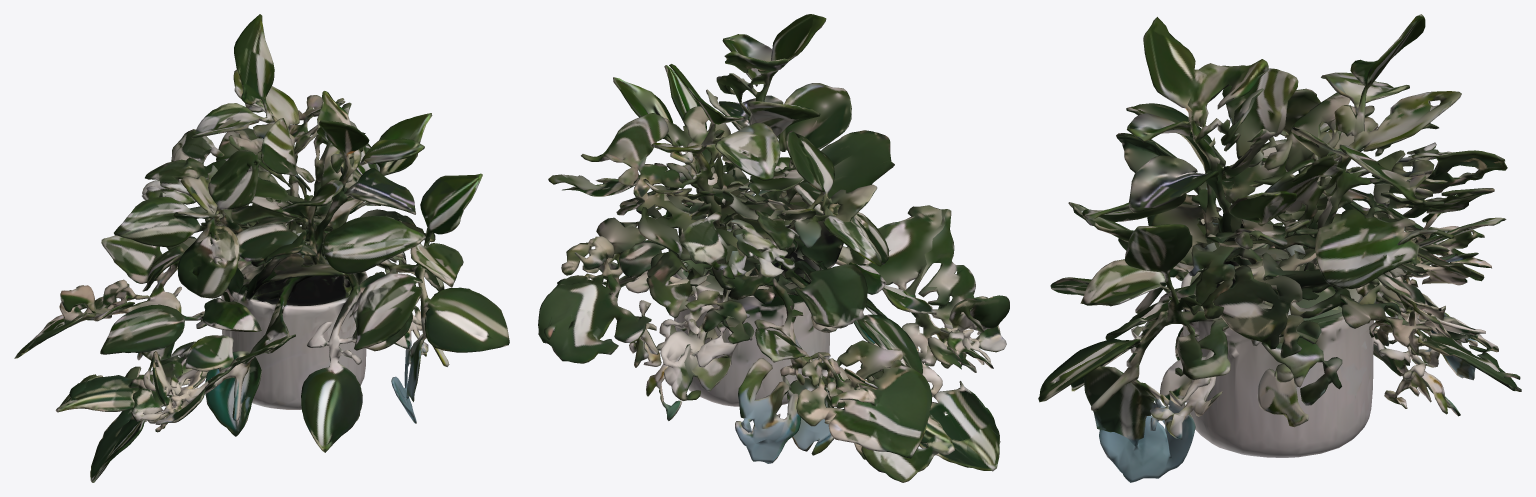
File: plant.glb
The picture shows the model from 3 angles, left to right: view 1: azimuth 30°, elevation 25°; view 2: azimuth 150°, elevation 25°; view 3: azimuth 270°, elevation 25°; orthographic projection. The views are drawn at different scales.
Visible parts, largest first — view 1: texture_pbr_v128; view 2: texture_pbr_v128; view 3: texture_pbr_v128.
Boxes of the visible parts, x1=… form: texture_pbr_v128: x1=14, y1=14, x2=509, y2=482; texture_pbr_v128: x1=538, y1=14, x2=1009, y2=482; texture_pbr_v128: x1=1038, y1=14, x2=1521, y2=482.
Bounding box in the file's own units: 0.8517 × 0.8519 × 0.786.
Materials: 1 (1 with a texture image).
